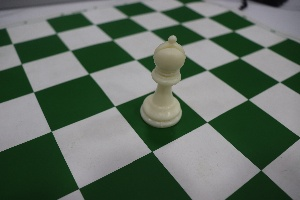white_bishop: (142, 22, 185, 132)
